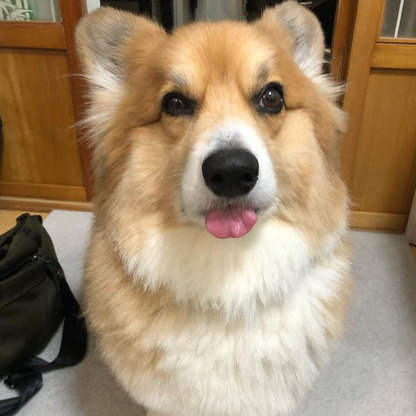Corgi: (76, 21, 352, 407)
